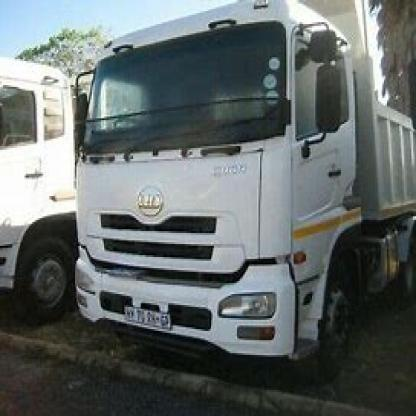dump_truck: (64, 4, 413, 382)
